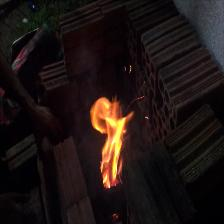fire: (92, 95, 132, 187)
